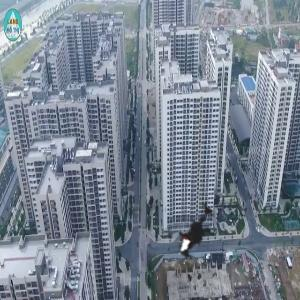drone: (146, 182, 240, 276)
